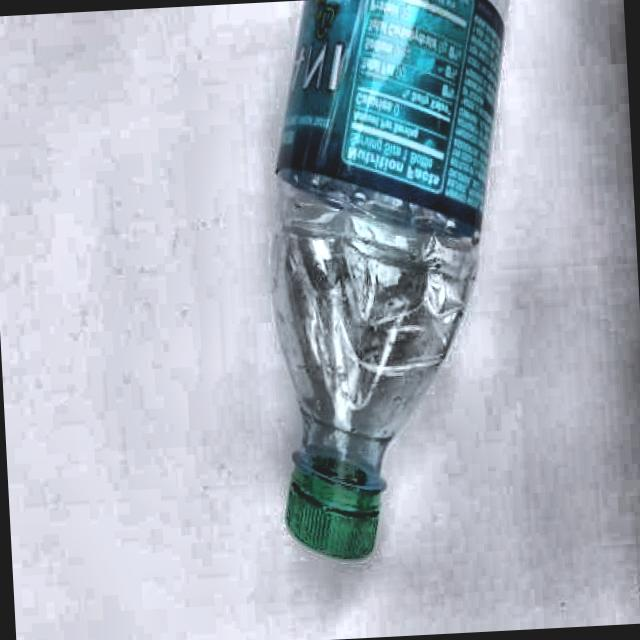plastic bottle: (272, 0, 509, 560)
